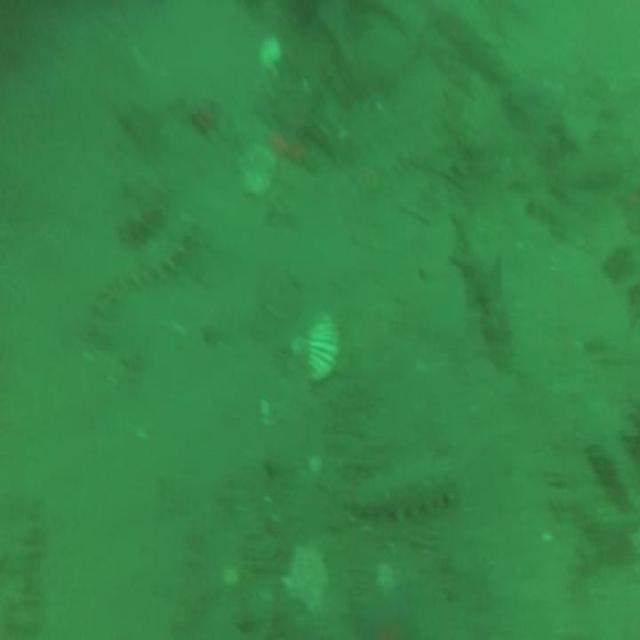holothurian: (100, 210, 196, 294), (352, 458, 460, 518)
scallop: (285, 310, 343, 387), (287, 545, 326, 613), (240, 142, 275, 198)
